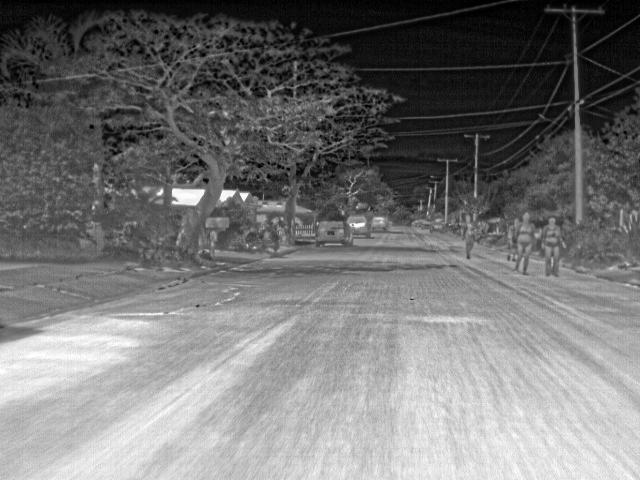car: (315, 220, 355, 248), (348, 215, 370, 235), (371, 216, 389, 230), (430, 222, 446, 234)
person: (543, 214, 568, 278), (516, 210, 539, 277), (462, 211, 476, 260), (505, 218, 519, 262)
